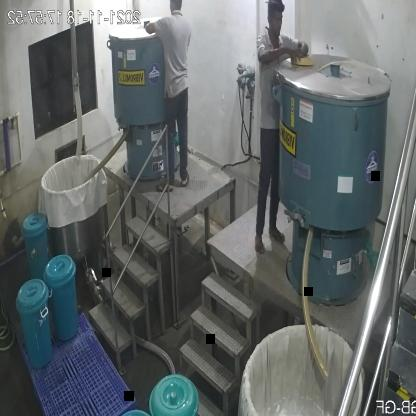no_shoes: (267, 224, 287, 247), (252, 235, 266, 256), (180, 172, 192, 188)
